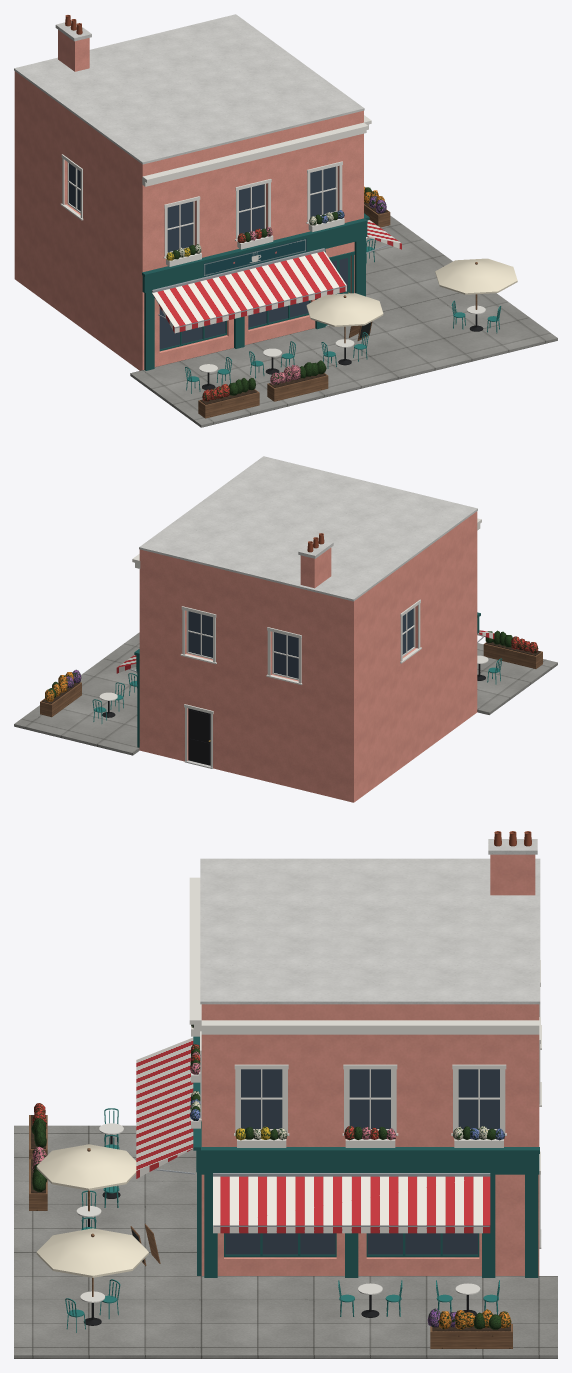
The model's file is corner-cafe.glb.
3 views of the same model, one above another, from view 1: azimuth 30°, elevation 25°; view 2: azimuth 150°, elevation 25°; view 3: azimuth 270°, elevation 25° (orthographic). The views are drawn at different scales.
Parts seen in each view (by area): view 1: Corner_Caf; view 2: Corner_Caf; view 3: Corner_Caf.
Boxes of the visible parts, box(x1,y1,x2,y2) form: Corner_Caf: box(14, 14, 557, 427); Corner_Caf: box(14, 456, 557, 802); Corner_Caf: box(14, 831, 557, 1358).
Bounding box in the file's own units: 14.5 × 9.88 × 14.5.
Materials: 29 (17 with a texture image).
